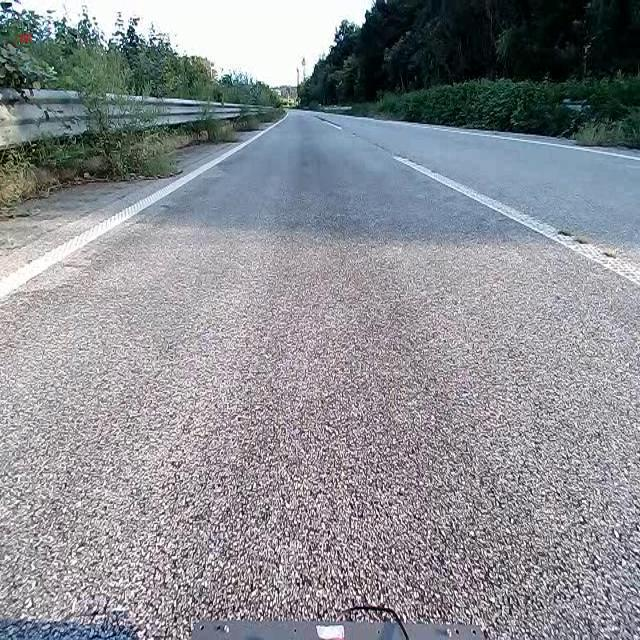Lane: (315, 105, 640, 300), (0, 110, 292, 305), (0, 120, 281, 302), (392, 155, 639, 287), (315, 117, 342, 129)
